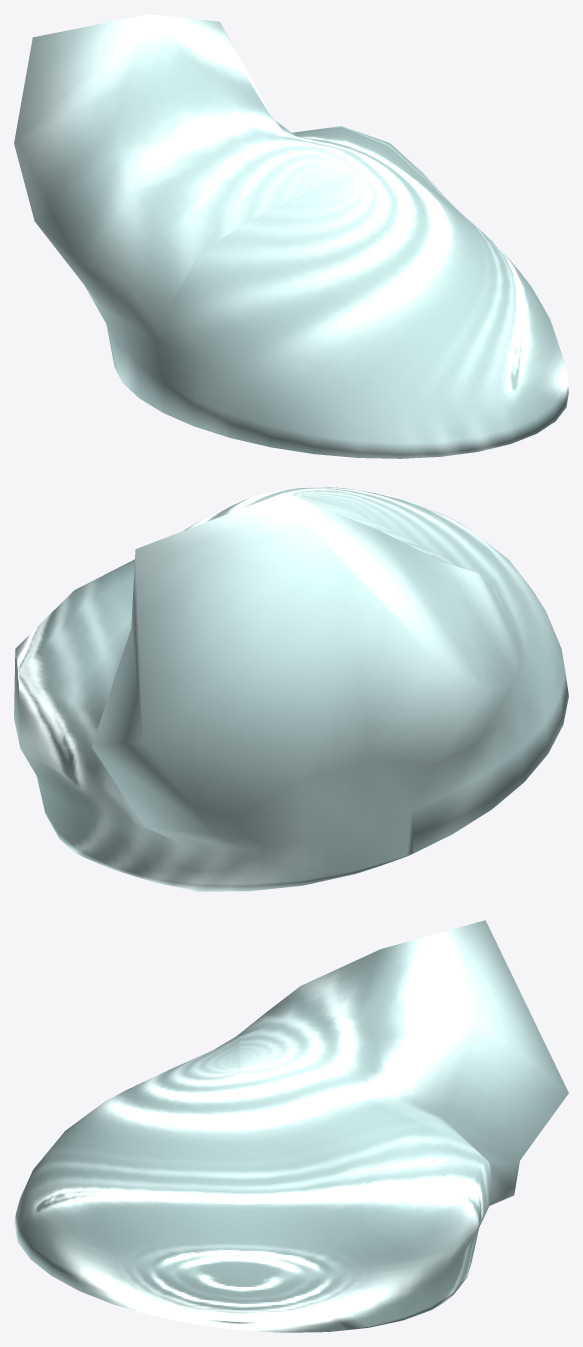
Rendered from EHHSI.gltf.
3 renders of one model, top to bottom at view 1: azimuth 30°, elevation 25°; view 2: azimuth 150°, elevation 25°; view 3: azimuth 270°, elevation 25°, orthographic. The views are drawn at different scales.
Parts seen in each view (by area): view 1: Esfera; view 2: Esfera; view 3: Esfera.
Part boxes in pixels (x1=…): Esfera: x1=14, y1=14, x2=568, y2=458; Esfera: x1=14, y1=487, x2=568, y2=891; Esfera: x1=14, y1=920, x2=568, y2=1332.
Bounding box in the file's own units: 77.12 × 60.05 × 102.
